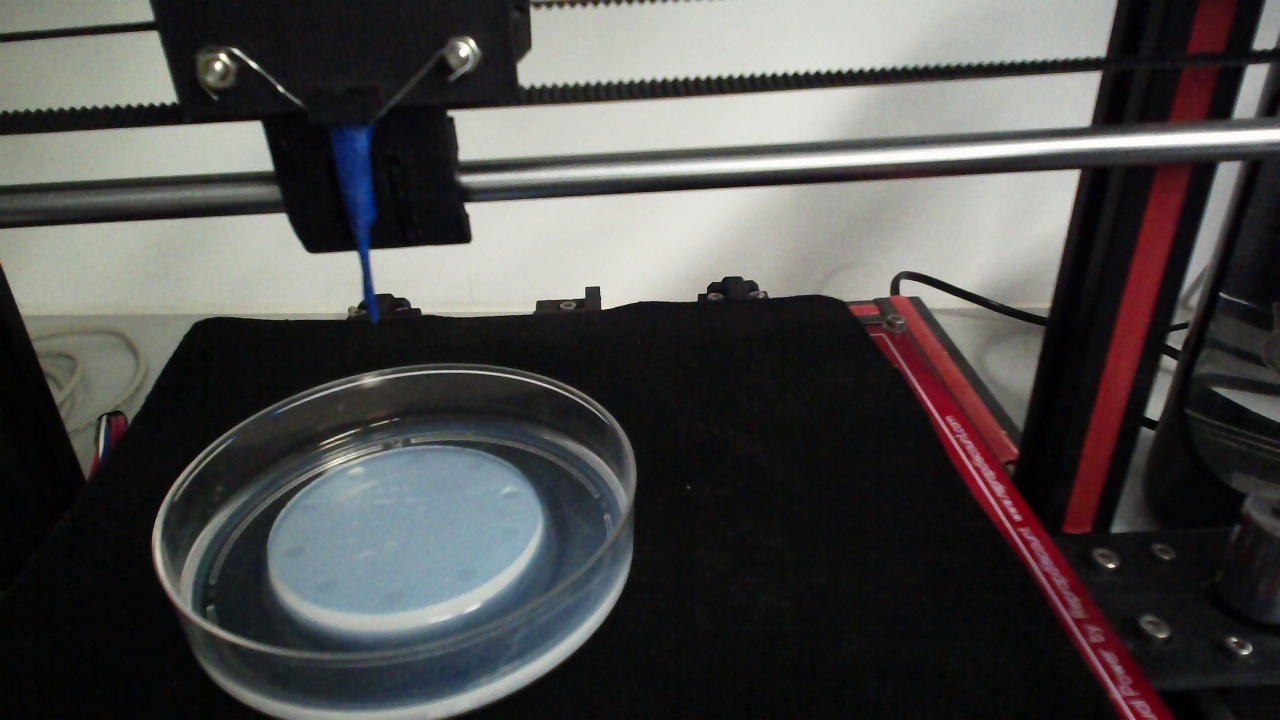groove: (497, 524, 522, 543), (314, 578, 338, 597), (454, 566, 479, 584), (282, 542, 305, 560), (381, 588, 406, 604), (498, 485, 522, 501), (407, 452, 430, 468), (297, 499, 316, 515), (464, 460, 485, 474), (344, 466, 363, 481)
needle: (329, 126, 379, 327)
